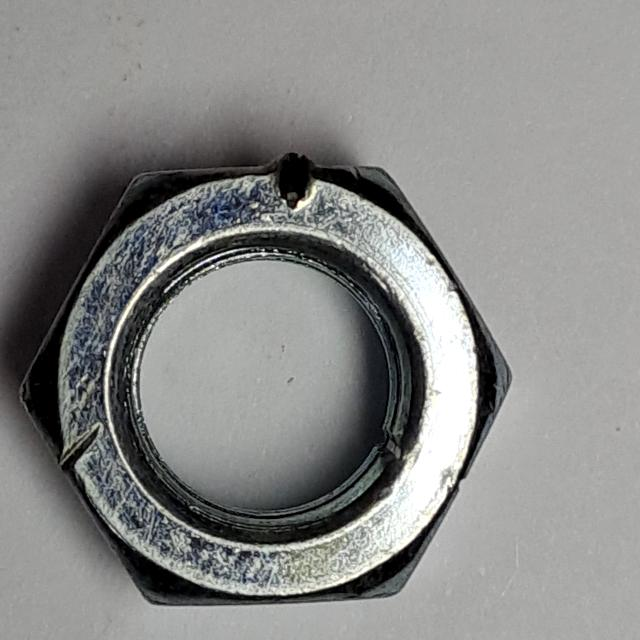Scratches: (15, 136, 532, 623)
